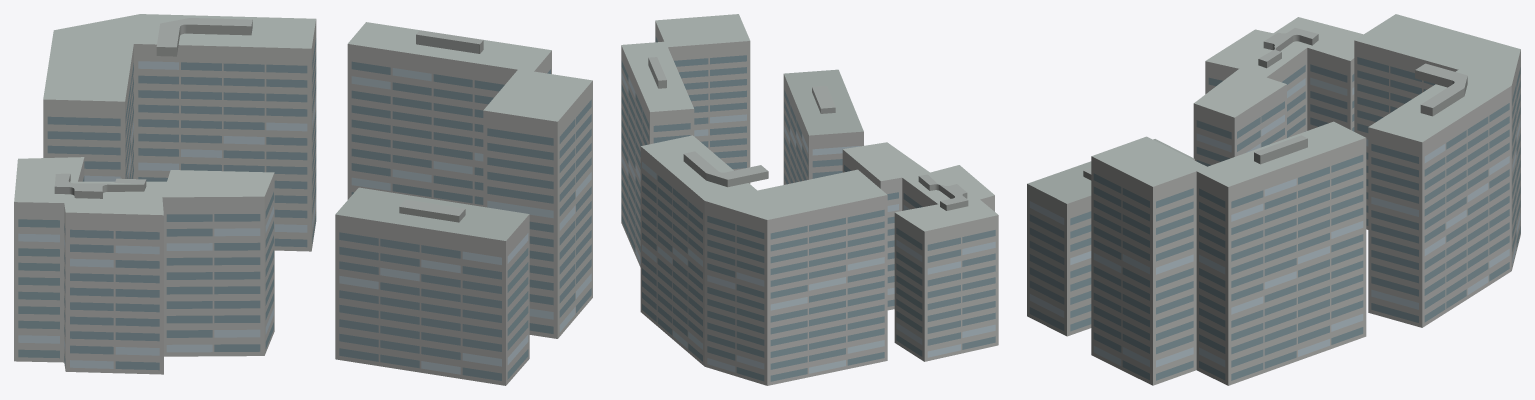
Rendered from apt-a15805203.glb.
3 renders of one model, left to right at view 1: azimuth 30°, elevation 25°; view 2: azimuth 150°, elevation 25°; view 3: azimuth 270°, elevation 25°, orthographic. The views are drawn at different scales.
Visible parts, largest first — view 1: apt-a15805203; view 2: apt-a15805203; view 3: apt-a15805203.
Boxes of the visible parts, bbox=[...] form: apt-a15805203: bbox=[14, 14, 592, 385]; apt-a15805203: bbox=[621, 14, 998, 385]; apt-a15805203: bbox=[1027, 14, 1520, 385].
Size of the model in its own units: 110 by 47.81 by 103.
